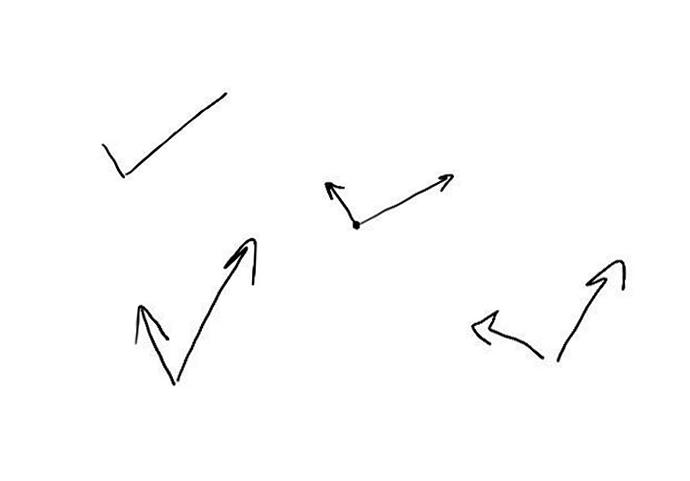arrow: (178, 235, 258, 376), (558, 257, 628, 358), (361, 174, 454, 223), (472, 308, 543, 359), (133, 304, 176, 384), (324, 181, 354, 222)
arrownohead: (126, 91, 227, 172), (103, 144, 124, 177)
